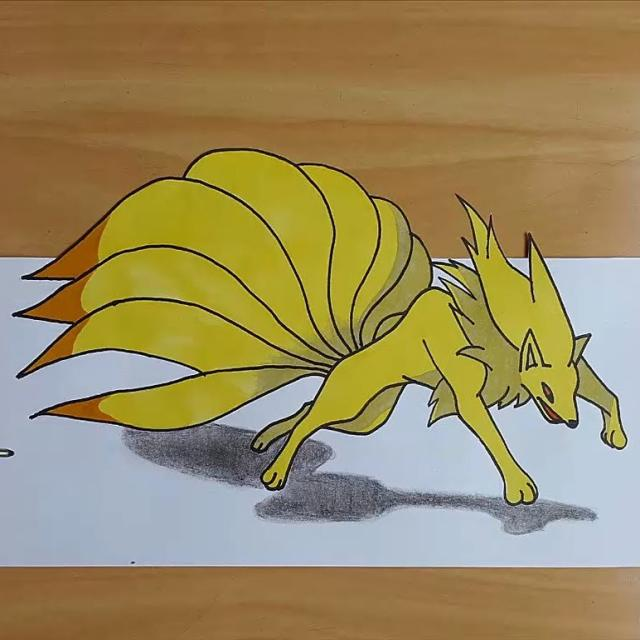Ninetales: (97, 146, 639, 476)
